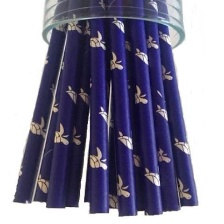drinking_straw: (122, 0, 164, 220), (85, 0, 111, 217)
glass: (34, 0, 190, 55)
